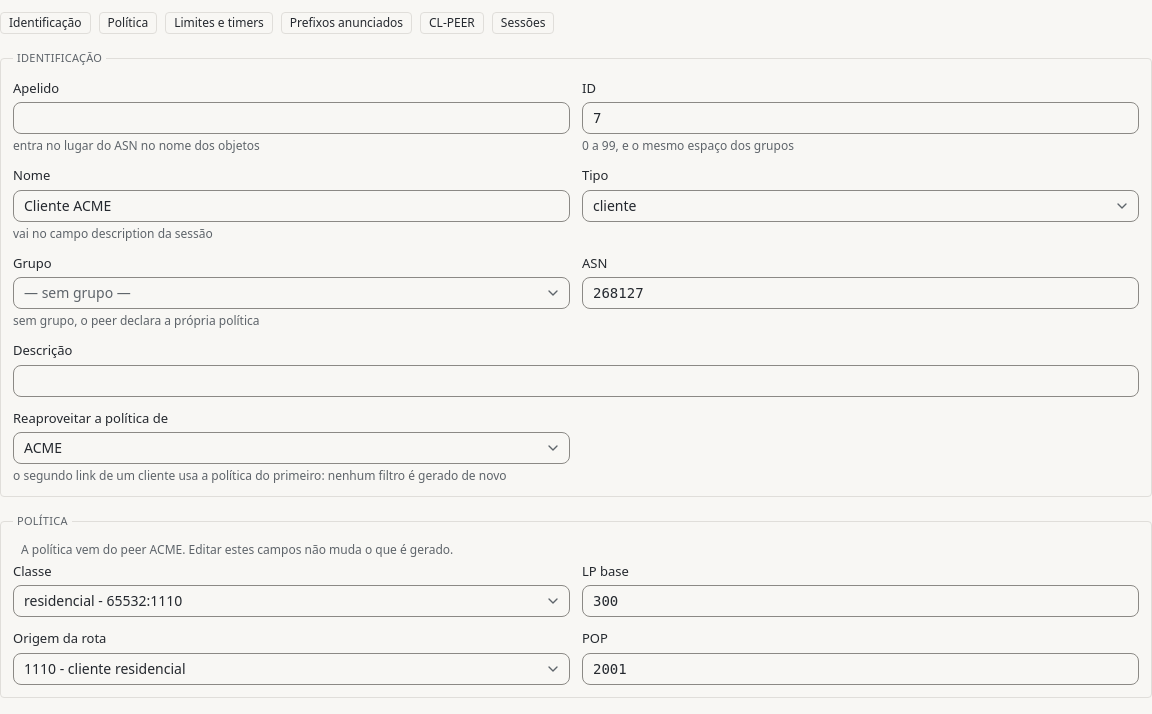
Scenario: o formulario do peer › a origem escolhida volta a ser nenhuma pela opcao vazia
Expected: the text "A política vem do peer" is shown, [21,540,453,558]
Click the dropdown named "reaproveitar" at {"x": 43, "y": 448}, box [13,432,570,464]
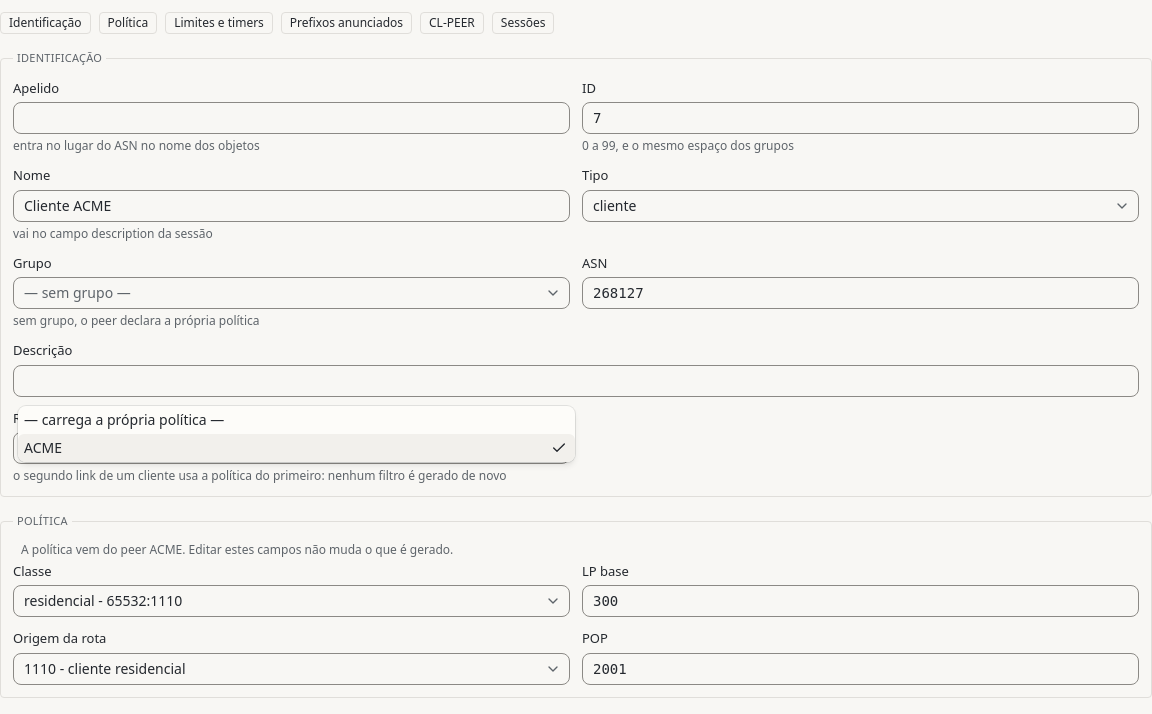
Click the option "— carrega a própria política —" at {"x": 124, "y": 420}, box [24,410,224,429]
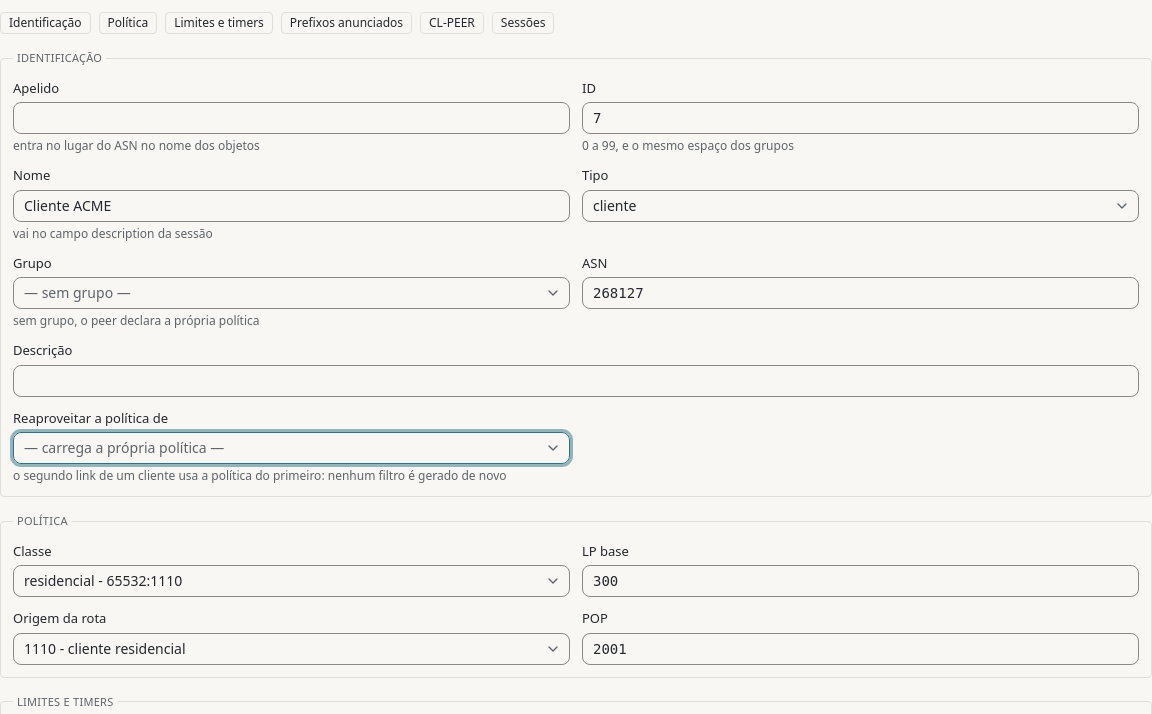
Expected: the text "A política vem do peer" is gone
Expected: the dropdown named "reaproveitar" shows "— carrega a própria política —", [13,432,570,464]
